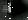person: (4, 1, 11, 16)
